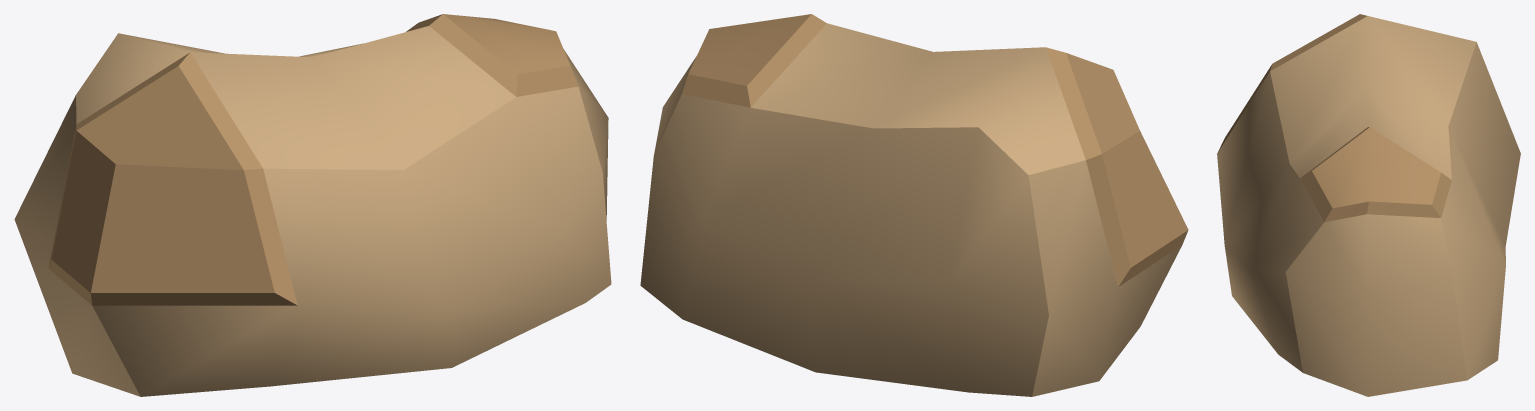
The model's file is Stone_Temple_02.fbx.
3 renders of one model, left to right at view 1: azimuth 30°, elevation 25°; view 2: azimuth 150°, elevation 25°; view 3: azimuth 270°, elevation 25°, orthographic. The views are drawn at different scales.
Visible parts, largest first — view 1: Stone_002; view 2: Stone_002; view 3: Stone_002.
Boxes of the visible parts, box(x1,y1,x2,y2) form: Stone_002: box(14, 14, 611, 396); Stone_002: box(640, 14, 1188, 396); Stone_002: box(1217, 14, 1520, 396).
Bounding box in the file's own units: 89.62 × 53.26 × 57.72.
Materials: 1 (1 with a texture image).
